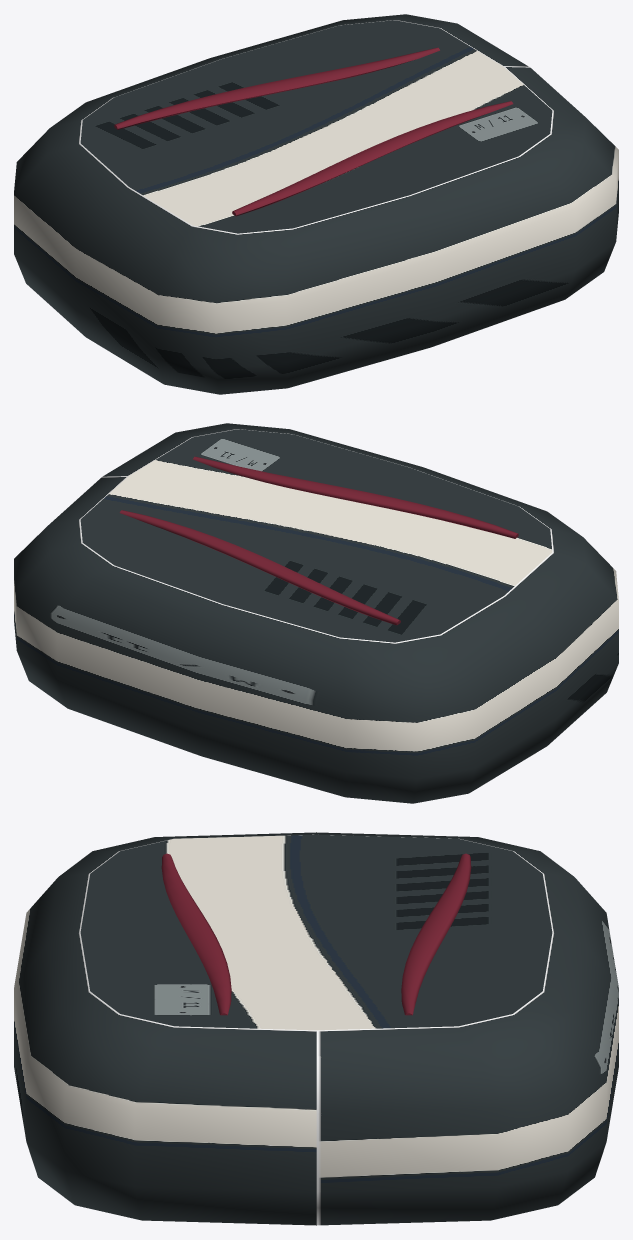
Rendered from MotorCowl_11_R_舷窓・臙脂.glb.
3 views of the same model, one above another, from view 1: azimuth 30°, elevation 25°; view 2: azimuth 150°, elevation 25°; view 3: azimuth 270°, elevation 25° (orthographic). The views are drawn at different scales.
Visible parts, largest first — view 1: MotorCowl_11_R; view 2: MotorCowl_11_R; view 3: MotorCowl_11_R.
Boxes of the visible parts, x1=… form: MotorCowl_11_R: x1=14, y1=14, x2=618, y2=394; MotorCowl_11_R: x1=14, y1=423, x2=618, y2=803; MotorCowl_11_R: x1=14, y1=832, x2=618, y2=1225.
Size of the model in its own units: 0.332 by 0.1188 by 0.286.
Materials: 1 (1 with a texture image).
